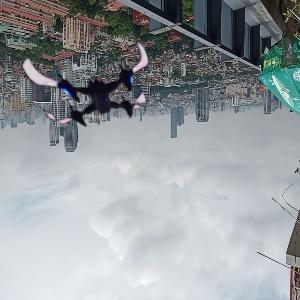drone: (36, 23, 161, 148)
